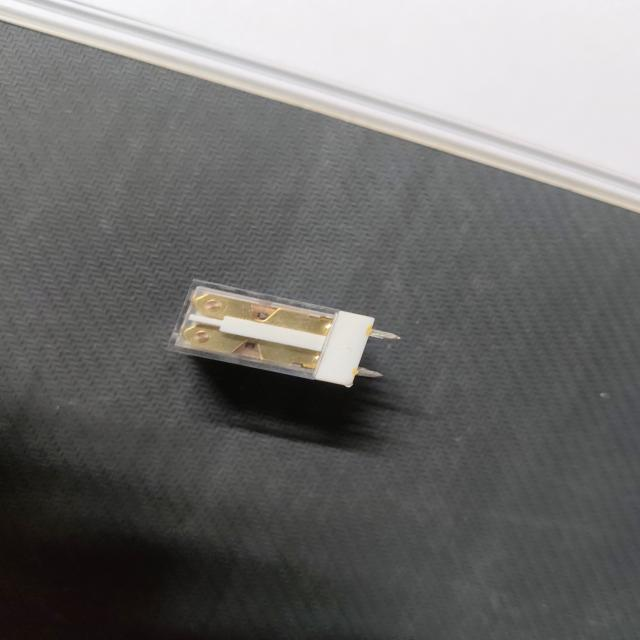relay: (160, 264, 408, 404)
